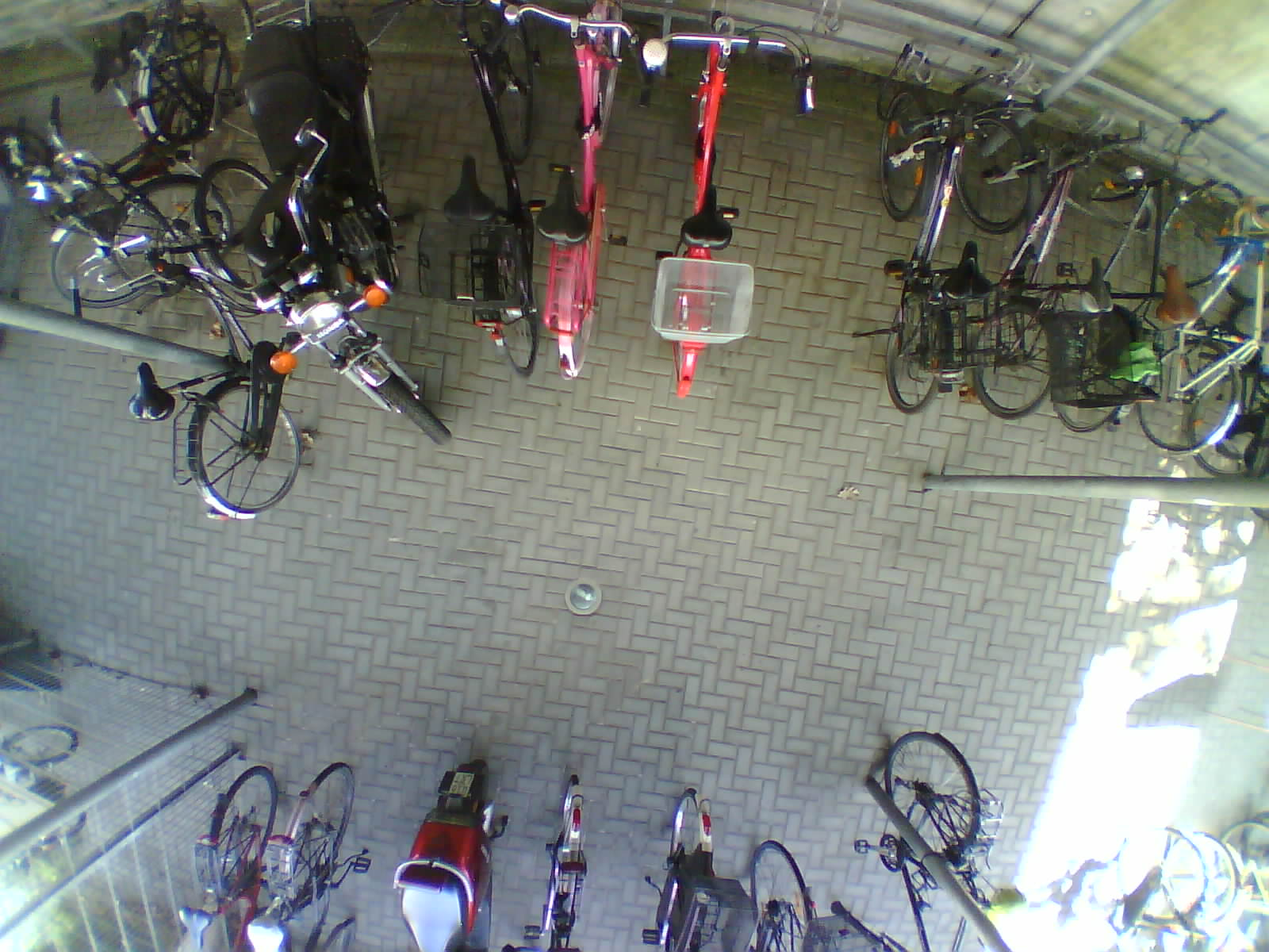bicylce: (174, 162, 307, 526), (56, 14, 212, 306), (435, 3, 542, 402), (660, 10, 750, 406), (877, 63, 973, 415), (542, 0, 626, 398), (977, 78, 1065, 434), (1143, 162, 1248, 458), (1057, 130, 1147, 441), (870, 724, 990, 952), (178, 756, 277, 952), (283, 758, 369, 952)
saddle: (536, 168, 596, 246), (677, 175, 737, 250), (439, 158, 497, 224), (60, 177, 118, 243), (120, 361, 178, 419), (1153, 258, 1203, 323), (943, 239, 995, 299), (73, 42, 133, 93), (1078, 256, 1117, 314), (982, 882, 1030, 923), (174, 902, 214, 951), (242, 910, 286, 952)
